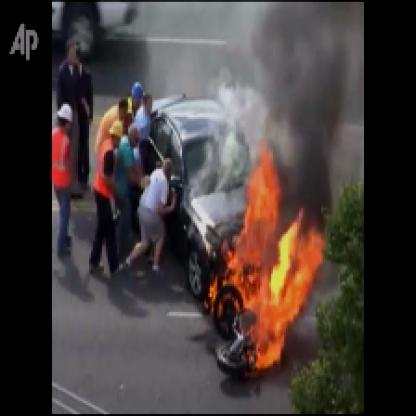Fire: (197, 139, 332, 390)
Smoke: (258, 2, 359, 226), (212, 85, 264, 197)
